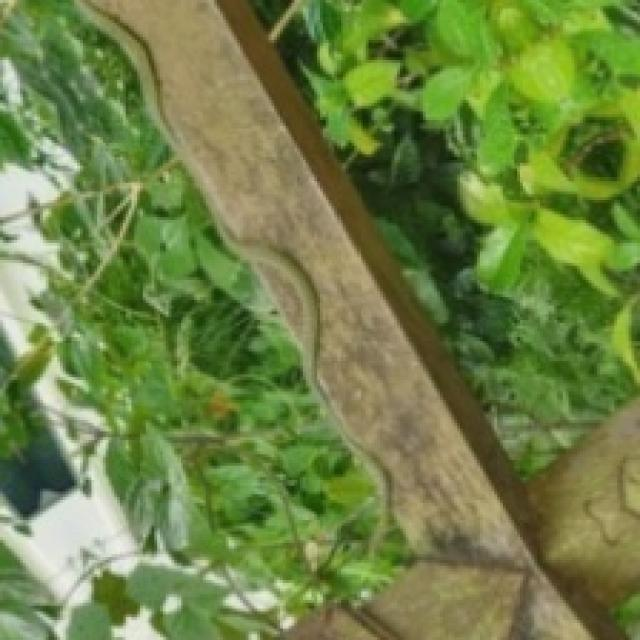paradise tree snake: (219, 226, 330, 409), (85, 5, 172, 142), (335, 418, 396, 513)
